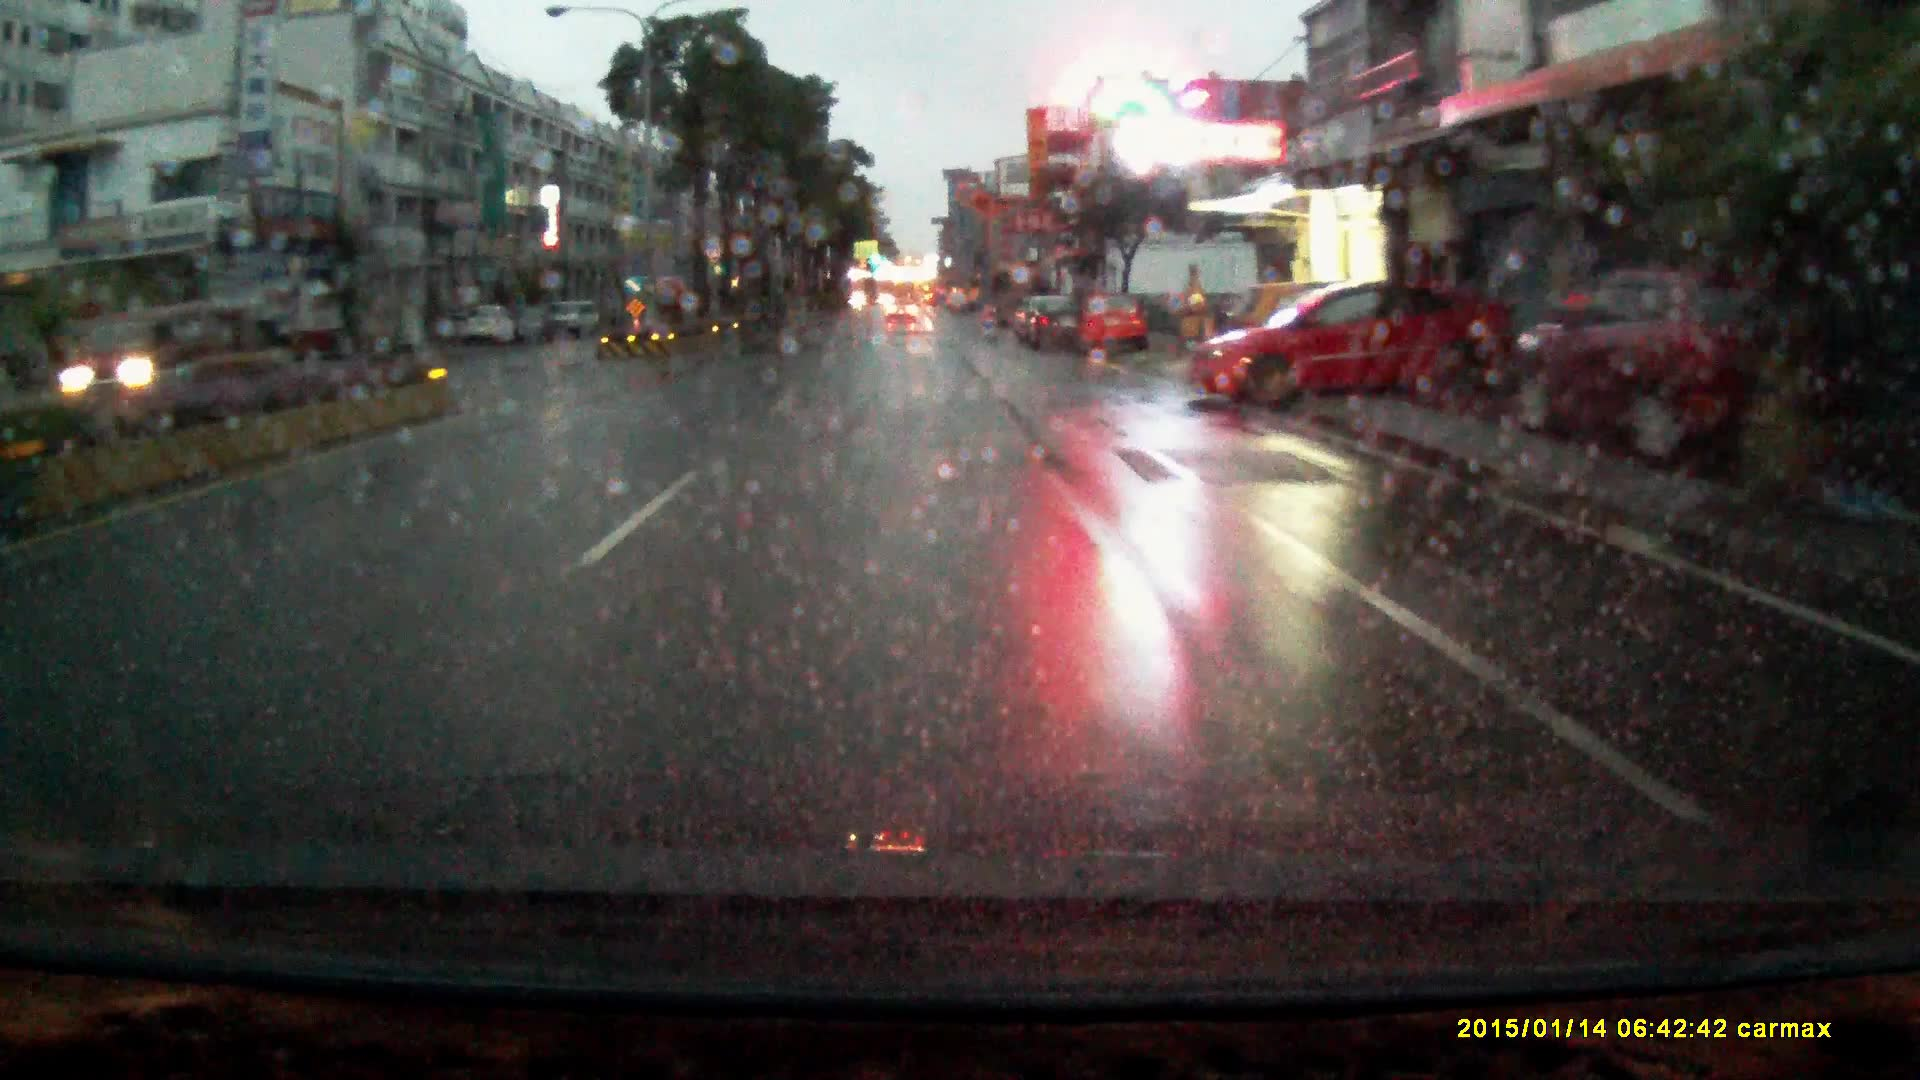vehicle: (1506, 270, 1822, 473), (1189, 280, 1524, 410), (73, 301, 253, 401), (1065, 301, 1154, 360), (1021, 301, 1085, 355), (463, 303, 516, 349), (546, 301, 604, 340), (887, 299, 918, 327)
